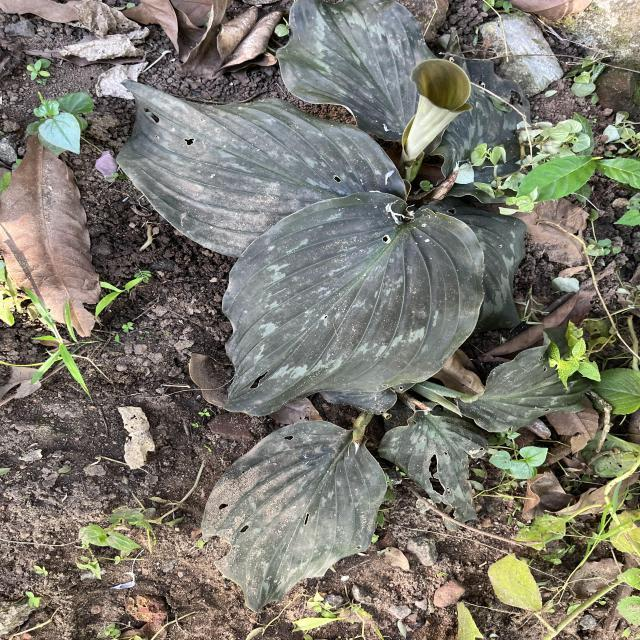Kaempferia galanga linn: (219, 189, 488, 420), (112, 76, 412, 260), (199, 417, 390, 617), (272, 0, 447, 145)
